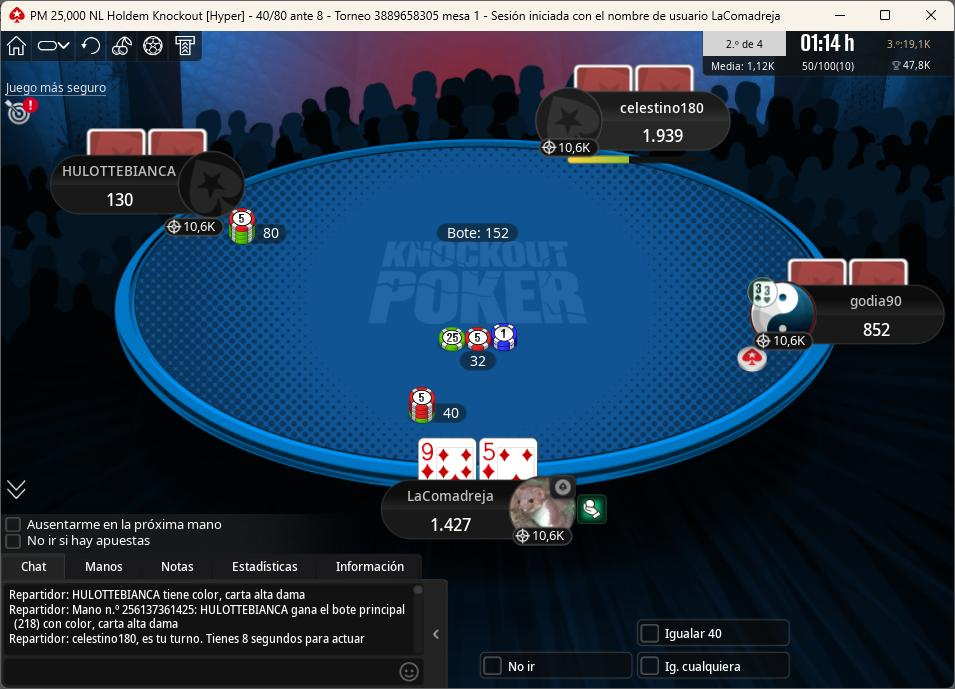Dealer: (736, 349, 769, 373)
HiddenCards: (82, 130, 208, 161), (572, 66, 698, 95), (786, 257, 911, 286)
Player: (746, 281, 945, 350), (543, 93, 732, 160), (48, 152, 244, 216)
PlayerBet: (233, 208, 293, 248)
PlayerChips: (639, 126, 693, 144), (859, 321, 900, 342), (101, 190, 139, 211)
Pot: (436, 222, 521, 244)
PreButtonCallAny: (636, 652, 796, 684), (635, 618, 799, 648)
PreButtonFold: (477, 650, 639, 683)
PrincipalBet: (406, 386, 470, 425)
PrincipalCards: (420, 437, 544, 485)
PrincipalCards1: (416, 434, 478, 484)
PrincipalCards2: (477, 436, 541, 481)
PrincipalPlayer: (376, 476, 585, 549)
PrincipalPlayerChips: (423, 516, 477, 536)
SmallBigBlind: (246, 3, 335, 26)
